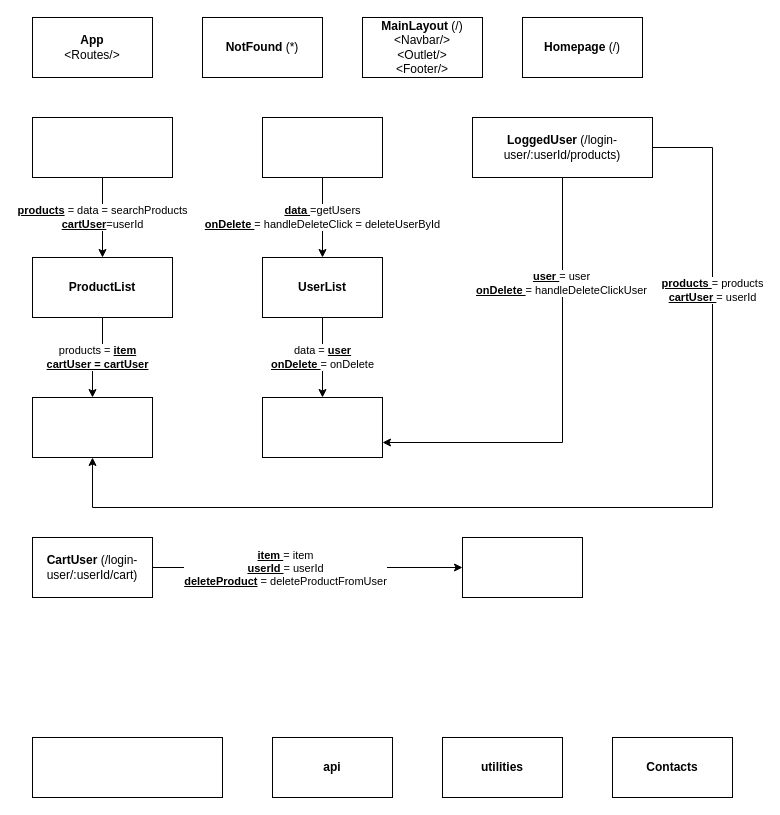
The diagram is 780 pixels wide and 815 high, and some of its shapes have lost their labels. The shapes that lost their labels are listed below. From the top down, each one's box as (x1, y1, x2, y2) in pixels, then its label:
(32, 116, 172, 178): ProductPage (/menu)
(262, 116, 382, 178): UserPage (/login)
(32, 396, 152, 458): ProductShow
(262, 396, 382, 458): User
(462, 536, 582, 598): CartShow
(32, 736, 222, 798): FormUserPage (/register ) or (/edit-user/:userId)
